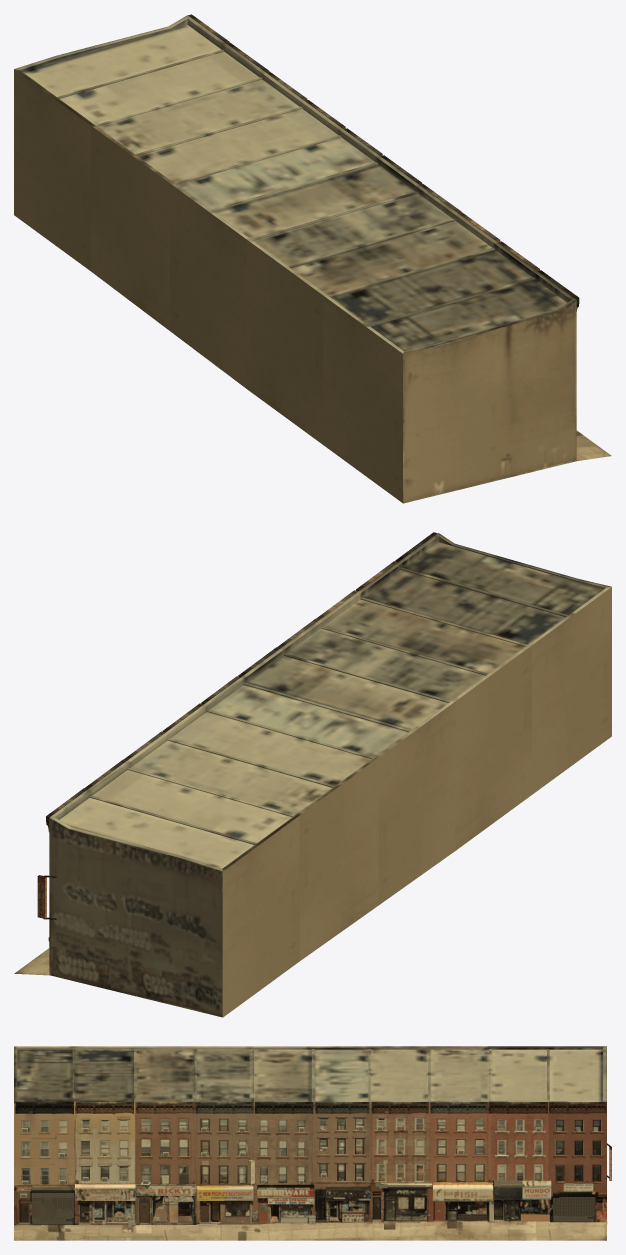
The model's file is brow.glb.
The picture shows the model from 3 angles, top to bottom: view 1: azimuth 30°, elevation 25°; view 2: azimuth 150°, elevation 25°; view 3: azimuth 270°, elevation 25°; orthographic projection. The views are drawn at different scales.
Visible parts, largest first — view 1: Object_4; view 2: Object_4; view 3: Object_4.
Part boxes in pixels (x1,y1,x2,y2): Object_4: (14, 14, 611, 503); Object_4: (14, 532, 611, 1017); Object_4: (14, 1046, 611, 1240).
Bounding box in the file's own units: 20.33 × 15.35 × 66.09.
1 material, 1 textured.
